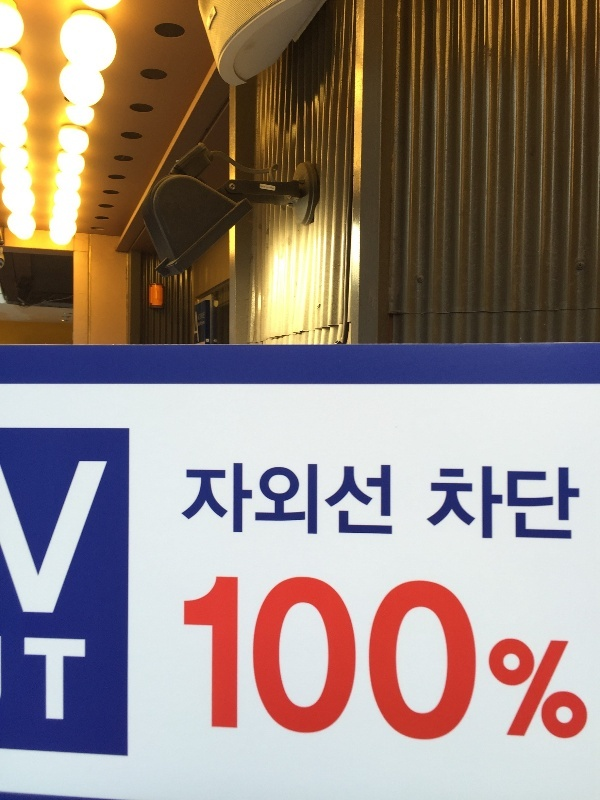text: (193, 572, 208, 748), (209, 572, 224, 748), (225, 572, 240, 748), (241, 572, 256, 748), (257, 572, 272, 748), (273, 572, 288, 748), (289, 572, 304, 748), (305, 572, 320, 748), (321, 572, 336, 748), (337, 572, 352, 748), (353, 572, 368, 748), (369, 572, 384, 748), (385, 572, 400, 748), (401, 572, 416, 748), (417, 572, 432, 748), (433, 572, 448, 748), (449, 572, 464, 748), (465, 572, 480, 748), (481, 572, 496, 748), (497, 572, 512, 748), (513, 572, 528, 748), (529, 572, 544, 748), (545, 572, 560, 748), (561, 572, 576, 748), (577, 572, 590, 748), (1, 463, 16, 614), (17, 463, 32, 614), (33, 463, 48, 614), (49, 463, 64, 614), (65, 463, 80, 614), (81, 463, 96, 614), (97, 463, 108, 614), (184, 572, 192, 748), (33, 637, 48, 722), (49, 637, 64, 722), (65, 637, 80, 722), (433, 464, 448, 545), (449, 464, 464, 545), (465, 464, 480, 545), (481, 464, 496, 545), (497, 464, 512, 545), (513, 464, 528, 545), (529, 464, 544, 545), (545, 464, 560, 545), (561, 464, 576, 545), (193, 464, 208, 537), (209, 464, 224, 537), (225, 464, 240, 537), (241, 464, 256, 537), (257, 464, 272, 537), (273, 464, 288, 537), (289, 464, 304, 537), (305, 464, 320, 537), (321, 464, 336, 537), (337, 464, 352, 537), (353, 464, 368, 537), (369, 464, 384, 537), (22, 637, 32, 722), (385, 464, 394, 537), (185, 464, 192, 537), (81, 637, 86, 722), (577, 464, 581, 545)
